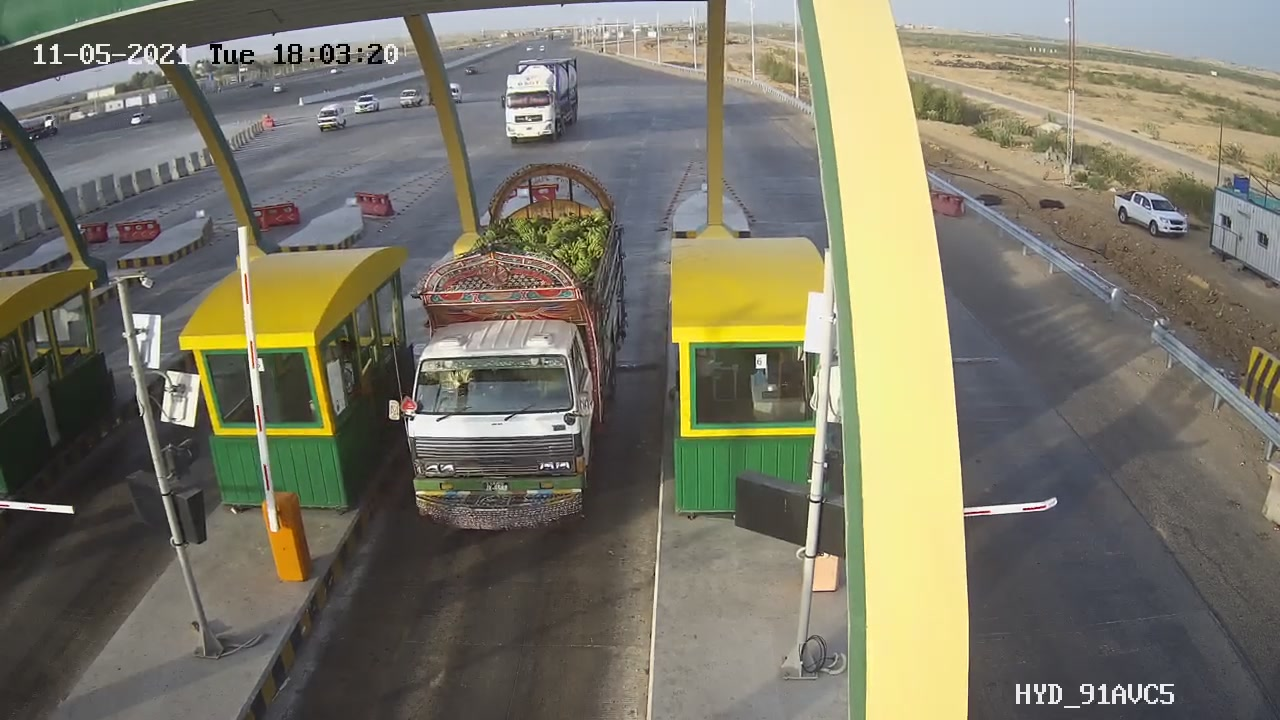F5: (382, 147, 661, 557)
